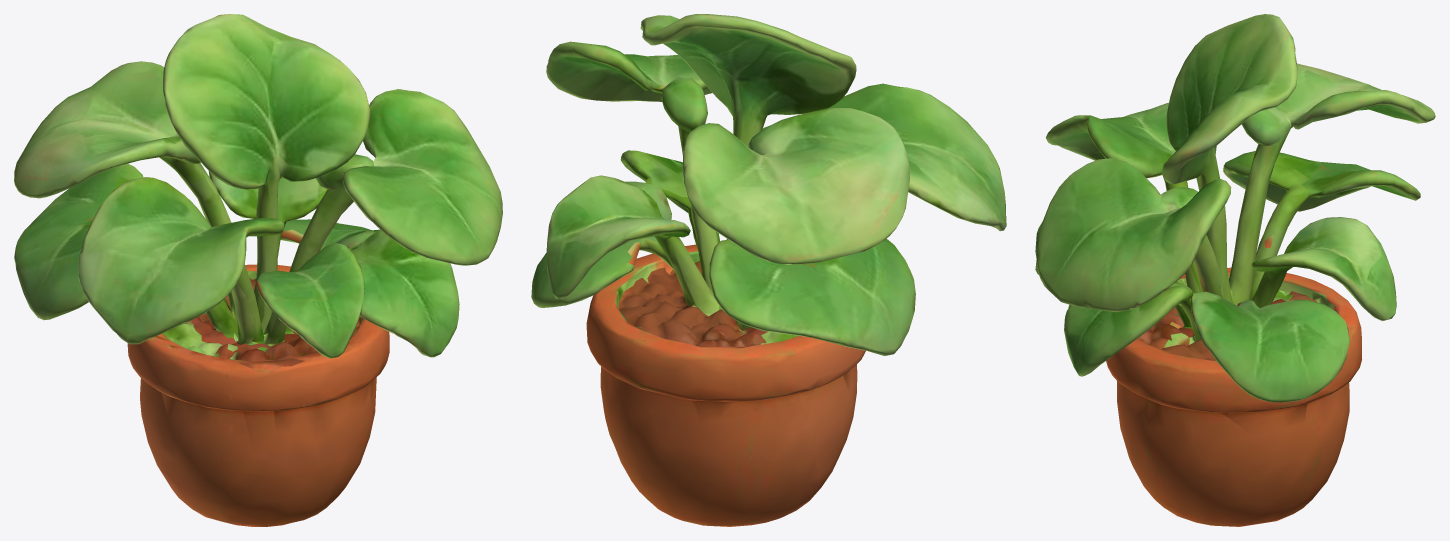
The model's file is plant_nature.glb.
The picture shows the model from 3 angles, left to right: view 1: azimuth 30°, elevation 25°; view 2: azimuth 150°, elevation 25°; view 3: azimuth 270°, elevation 25°; orthographic projection. The views are drawn at different scales.
Visible parts, largest first — view 1: textured_mesh.obj; view 2: textured_mesh.obj; view 3: textured_mesh.obj.
Boxes of the visible parts, box(x1,y1,x2,y2) form: textured_mesh.obj: box(14, 14, 502, 526); textured_mesh.obj: box(531, 14, 1006, 526); textured_mesh.obj: box(1035, 14, 1435, 526).
Size of what is drawn, in the model's own units: 1.18 by 1.3 by 1.02.
Materials: 1 (1 with a texture image).
